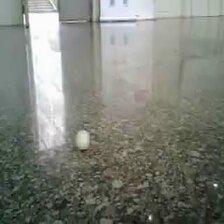w: (74, 128, 92, 152)
